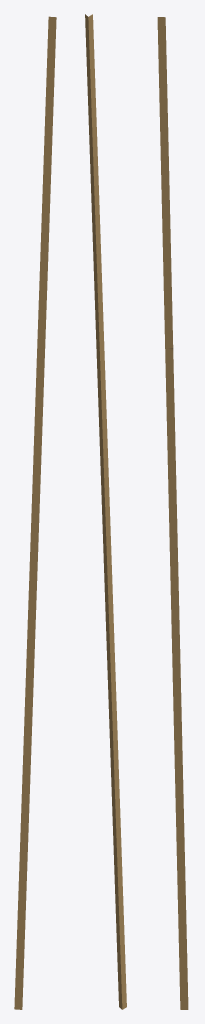
Rendered from rod14.gltf.
3 renders of one model, left to right at view 1: azimuth 30°, elevation 25°; view 2: azimuth 210°, elevation 25°; view 3: azimuth 270°, elevation 25°, orthographic.
Visible parts, largest first — view 1: fishing_rod_hook; view 2: fishing_rod_hook; view 3: fishing_rod_hook.
Boxes of the visible parts, bbox=[...] form: fishing_rod_hook: bbox=[14, 16, 56, 1009]; fishing_rod_hook: bbox=[85, 14, 126, 1009]; fishing_rod_hook: bbox=[157, 17, 188, 1009].
Bounding box in the file's own units: 0.0514 × 1.68 × 0.0469.
1 material, 1 textured.
